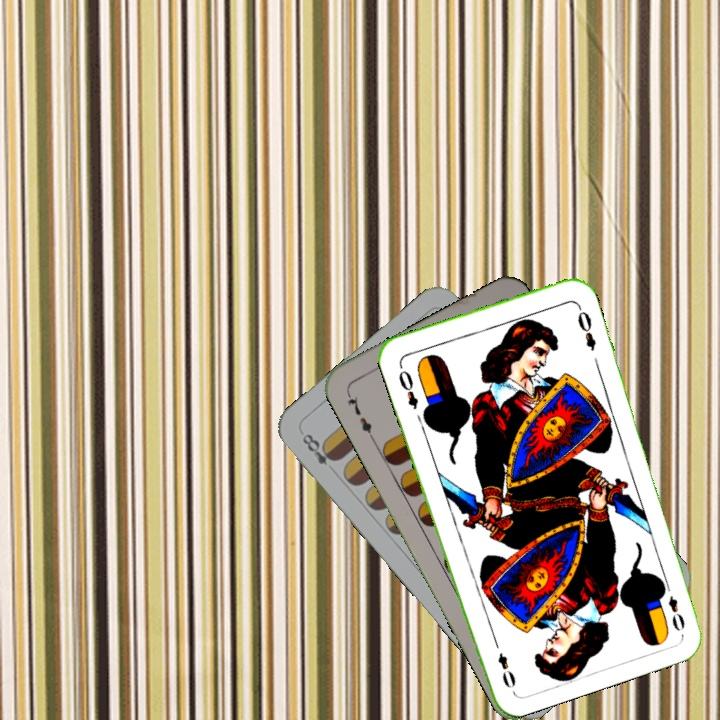E7: (342, 388, 377, 442)
E8: (298, 429, 341, 469)
EO: (659, 577, 688, 634), (394, 360, 421, 412)
